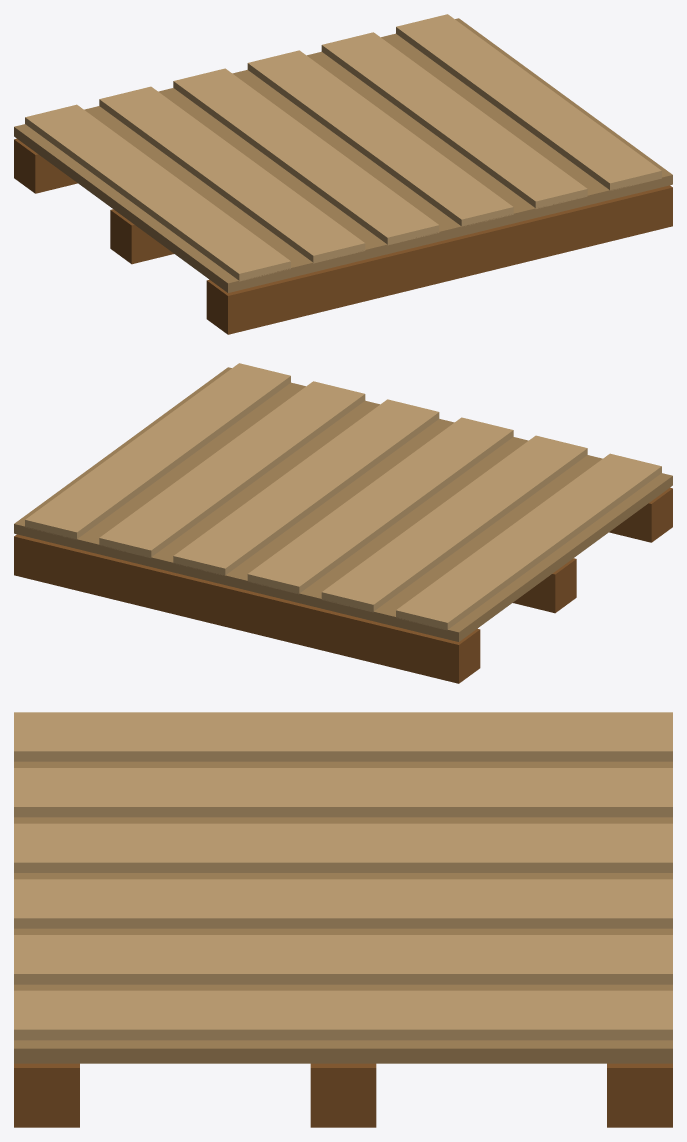
The model's file is pallet.glb.
The picture shows the model from 3 angles, top to bottom: view 1: azimuth 30°, elevation 25°; view 2: azimuth 150°, elevation 25°; view 3: azimuth 270°, elevation 25°; orthographic projection. The views are drawn at different scales.
Parts seen in each view (by area): view 1: pallet; view 2: pallet; view 3: pallet.
Part boxes in pixels (x1,y1,x2,y2): pallet: [14, 14, 672, 334]; pallet: [14, 363, 672, 683]; pallet: [14, 712, 672, 1127].
Size of the model in its own units: 1.2 by 0.15 by 1.
